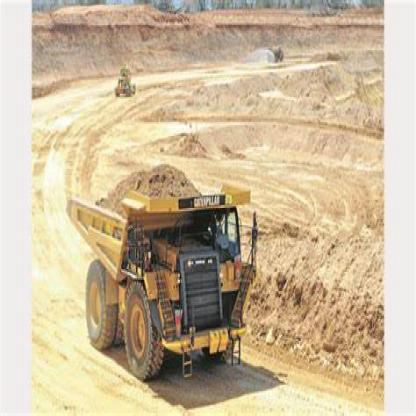dump_truck: (69, 130, 292, 385)
